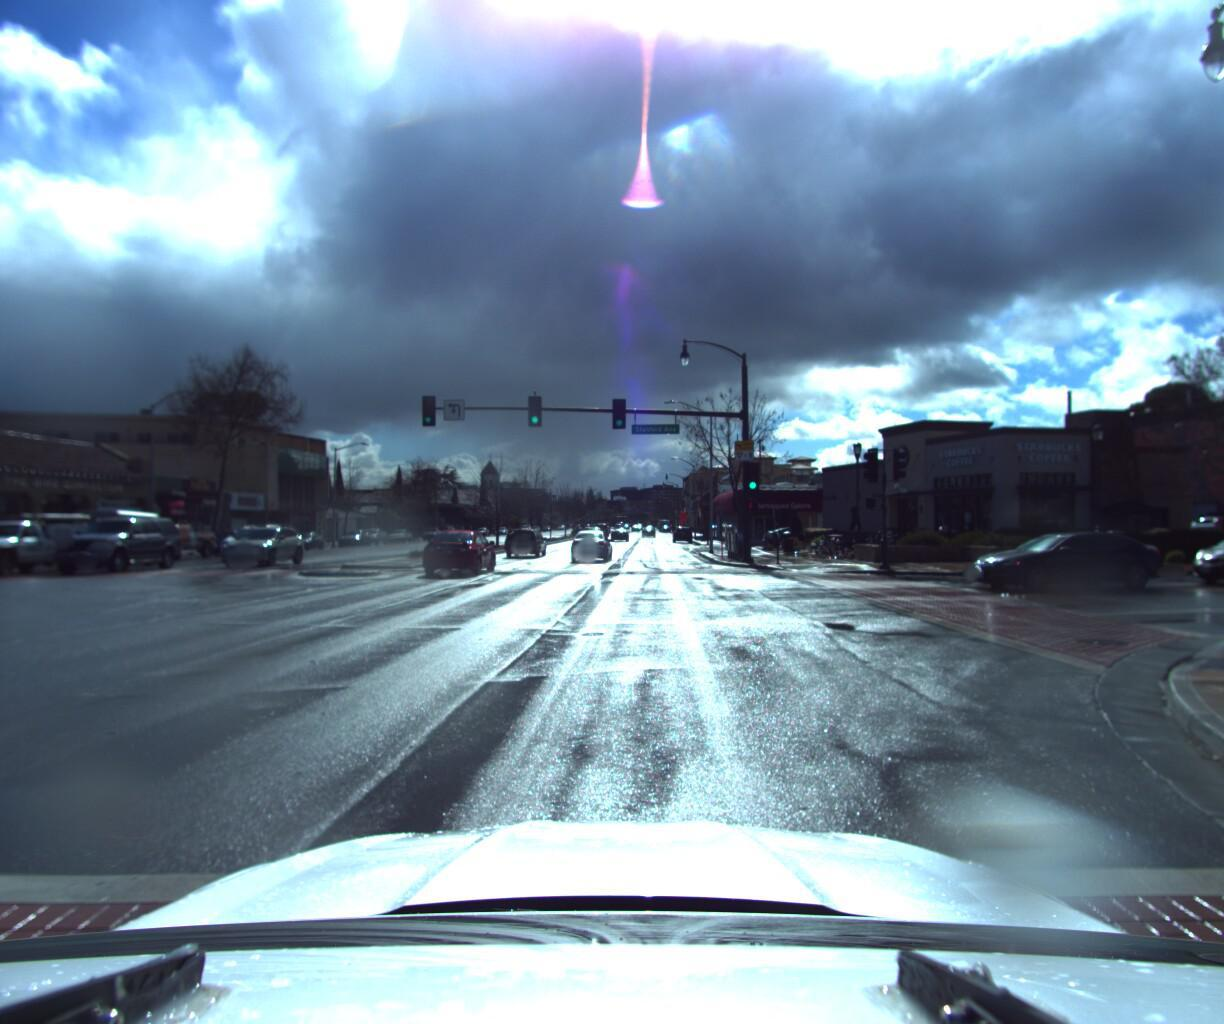bicycle: (806, 529, 851, 556), (808, 529, 853, 556)
car: (954, 525, 1171, 591), (42, 516, 190, 578), (0, 513, 109, 583), (204, 520, 317, 567), (121, 518, 220, 565), (420, 526, 501, 575), (1168, 516, 1224, 583), (212, 523, 300, 561), (193, 527, 261, 557), (566, 525, 615, 560), (503, 527, 550, 558), (671, 522, 690, 539)
other_vehicle: (49, 508, 178, 573)
